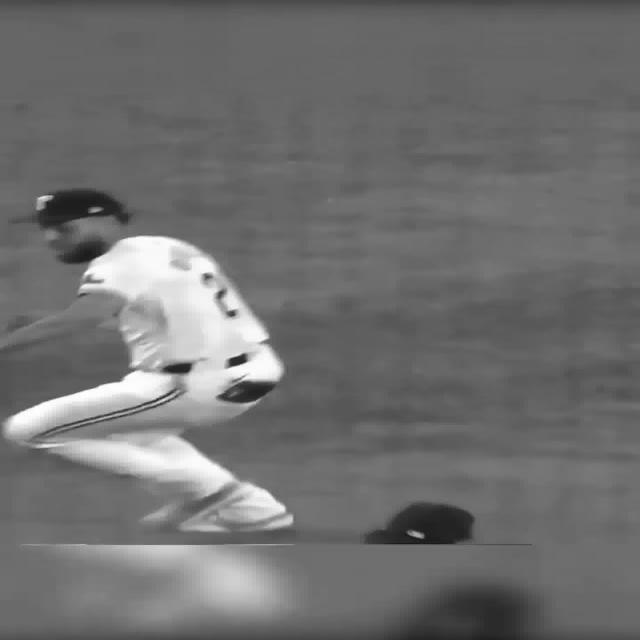shoe: (138, 481, 294, 533)
